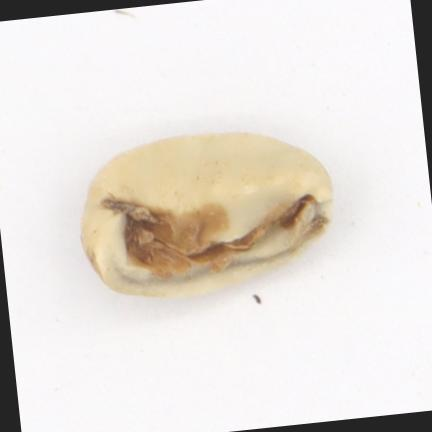cut: (82, 133, 333, 296)
